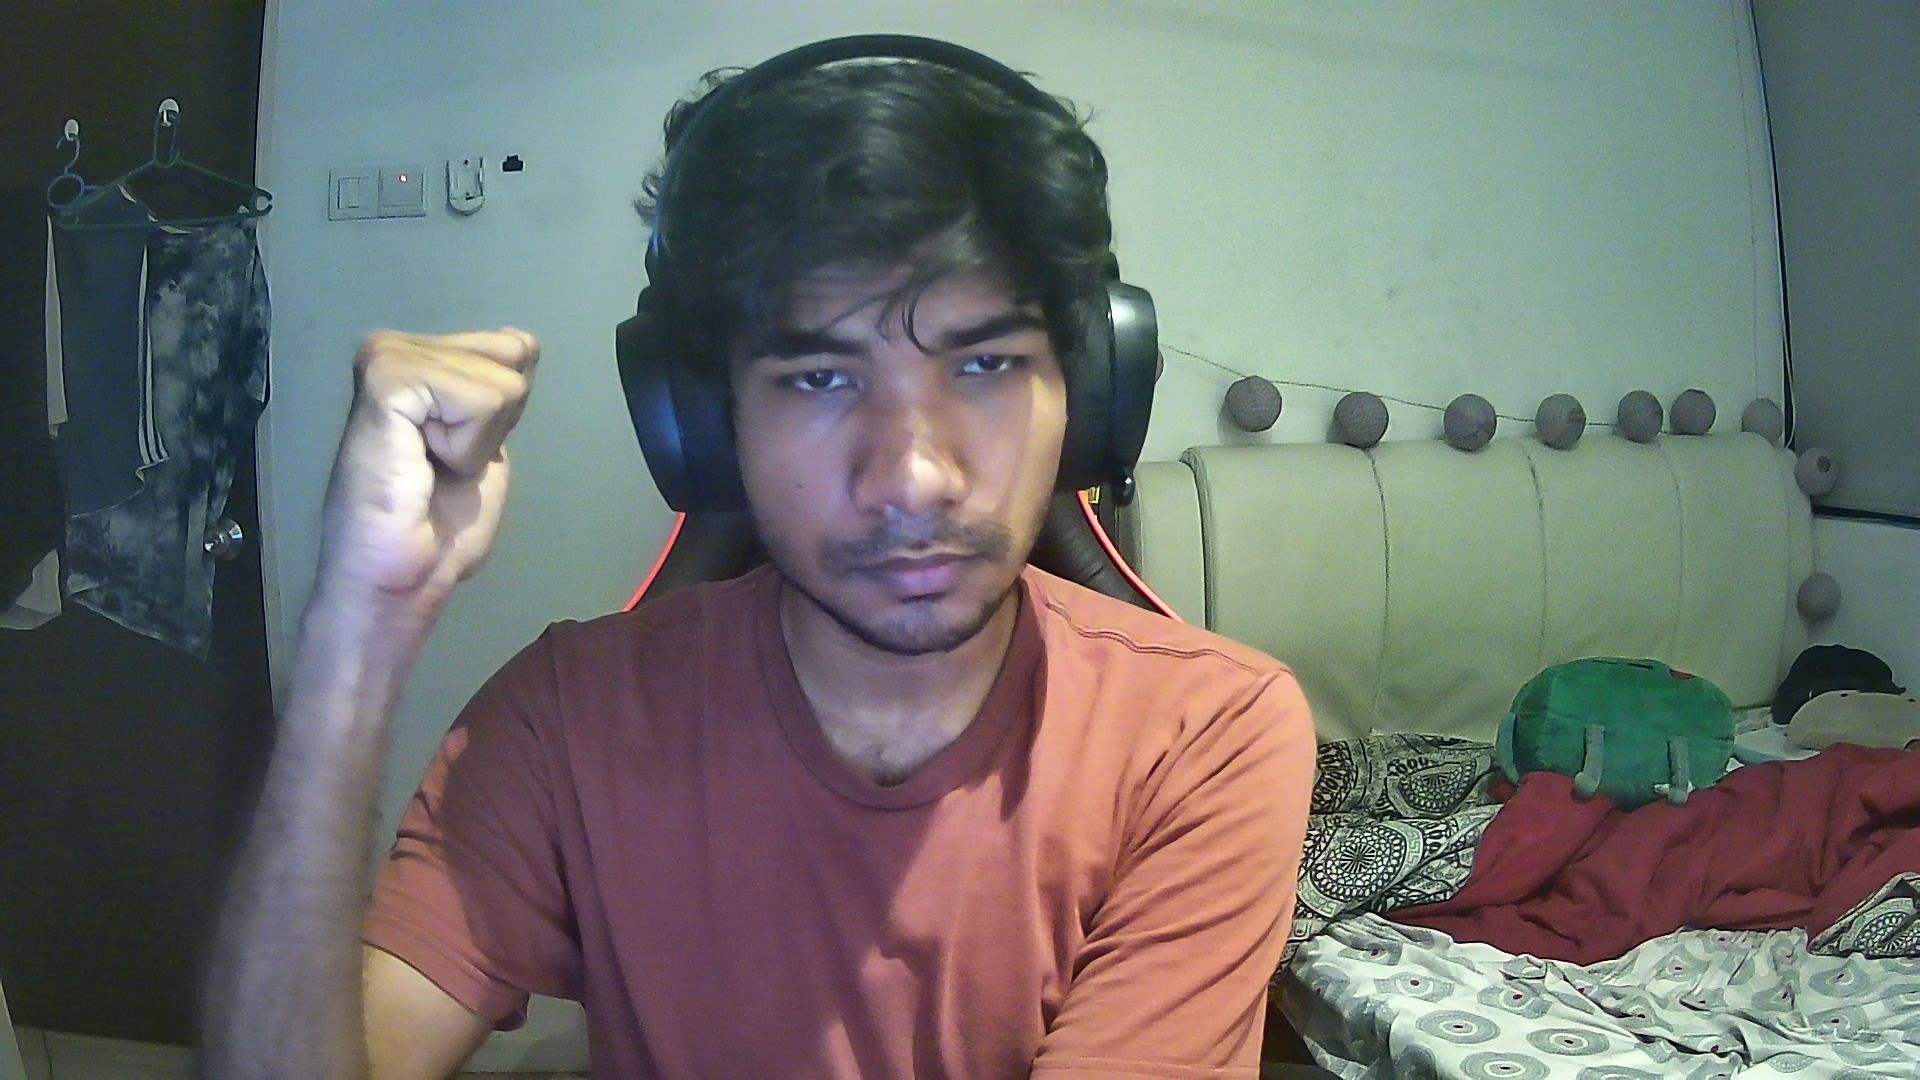Goodbye: (303, 310, 550, 601)
